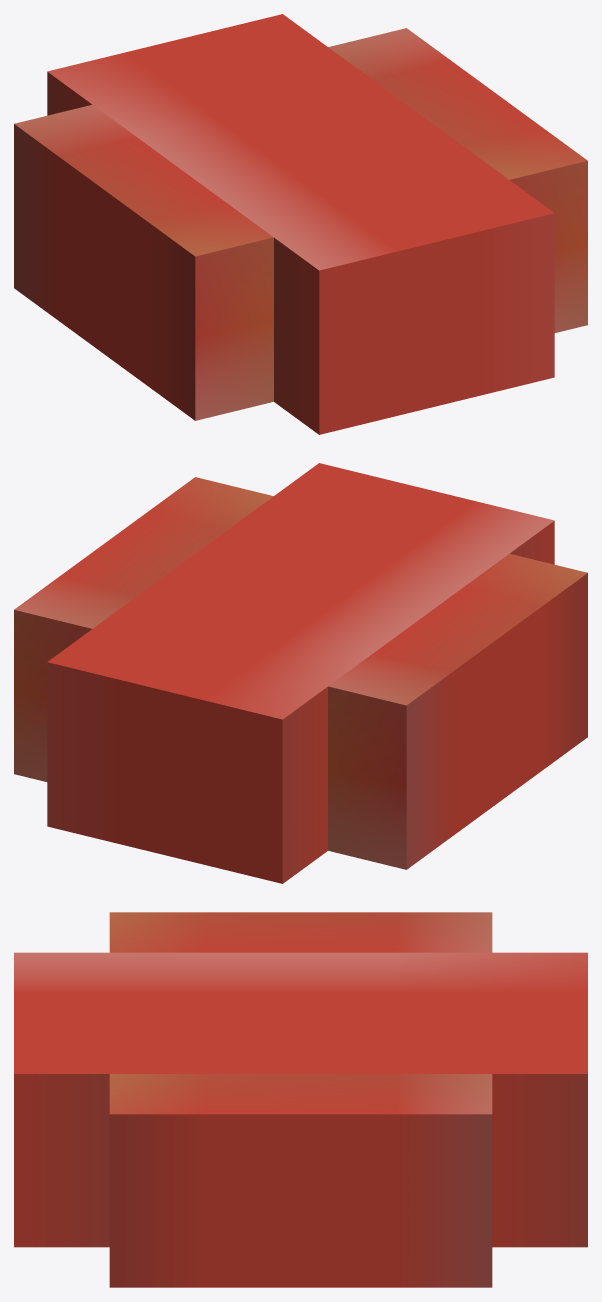
File: PillowSmallRed_00.obj
3 views of the same model, one above another, from view 1: azimuth 30°, elevation 25°; view 2: azimuth 150°, elevation 25°; view 3: azimuth 270°, elevation 25° (orthographic). The views are drawn at different scales.
Visible parts, largest first — view 1: PillowSmallRed_00; view 2: PillowSmallRed_00; view 3: PillowSmallRed_00.
Boxes of the visible parts, left/top/right/bottom form: PillowSmallRed_00: left=14, top=14, right=587, bottom=434; PillowSmallRed_00: left=14, top=463, right=587, bottom=883; PillowSmallRed_00: left=14, top=912, right=587, bottom=1287.
Size of the model in its own units: 0.25 by 0.1 by 0.3.
